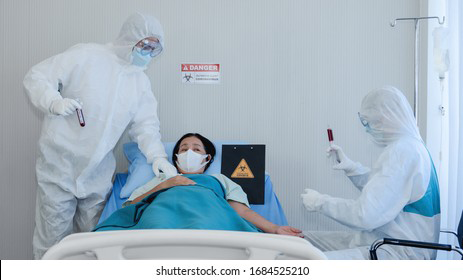Coverall: (27, 12, 168, 237), (322, 84, 442, 267)
Gloves: (325, 143, 358, 176), (47, 93, 83, 118), (293, 188, 327, 210)
with_mask: (174, 149, 211, 172), (128, 49, 154, 70)
